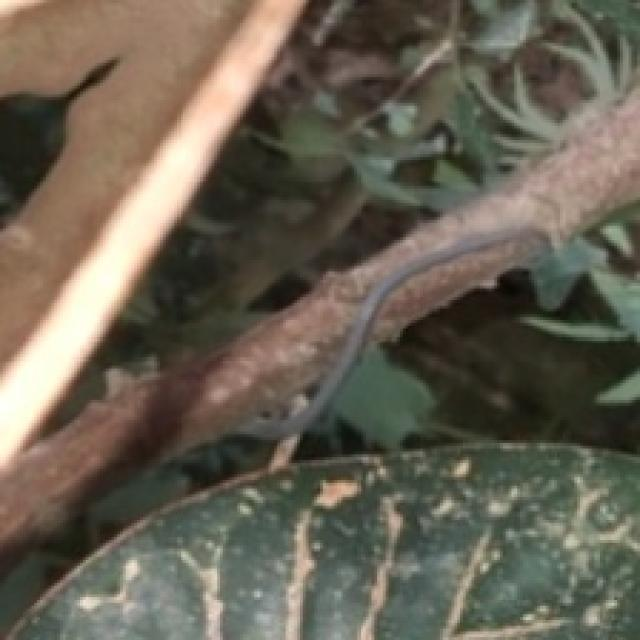red-tailed green ratsnake: (236, 231, 526, 441)
